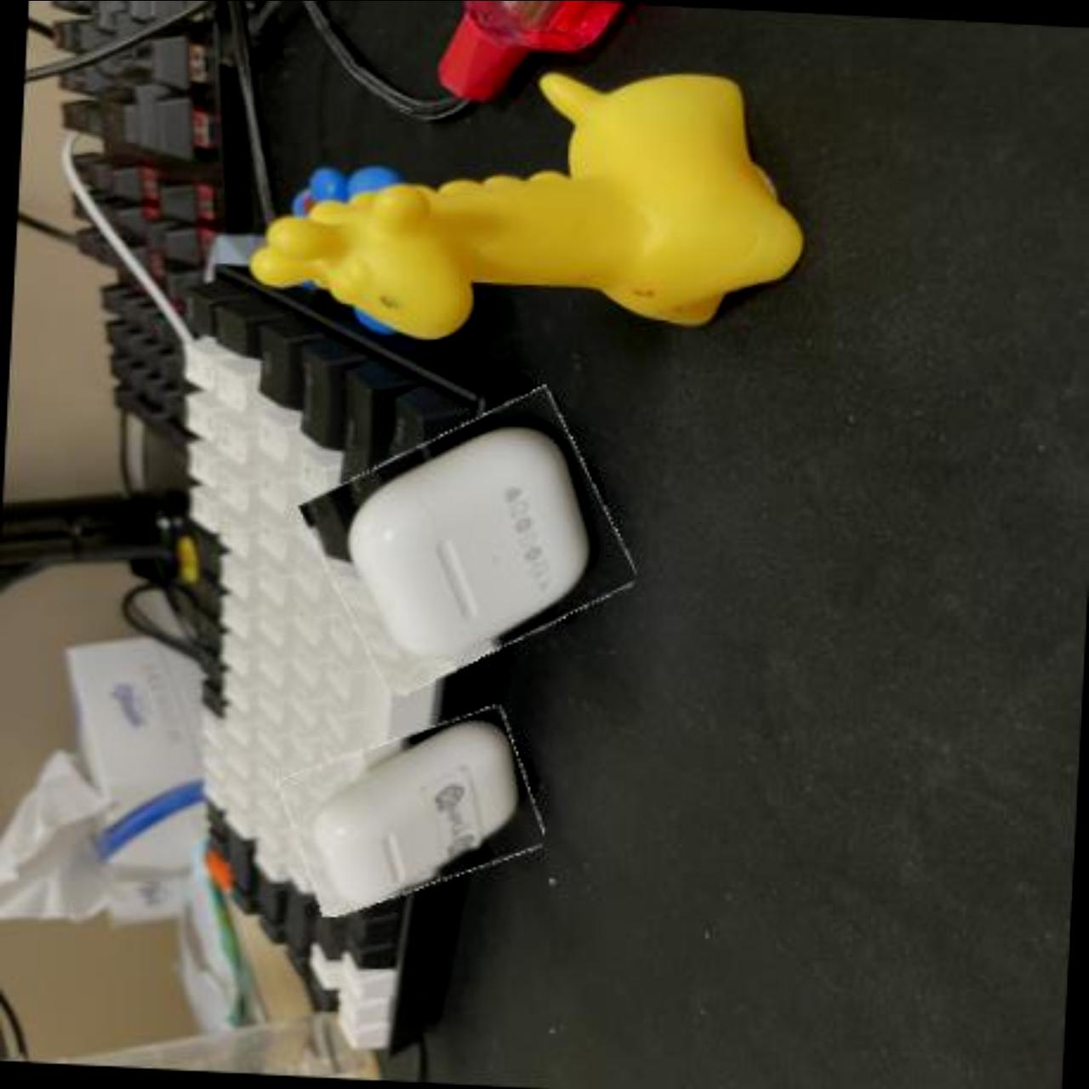AirPods: (308, 401, 630, 683), (280, 714, 542, 909)
